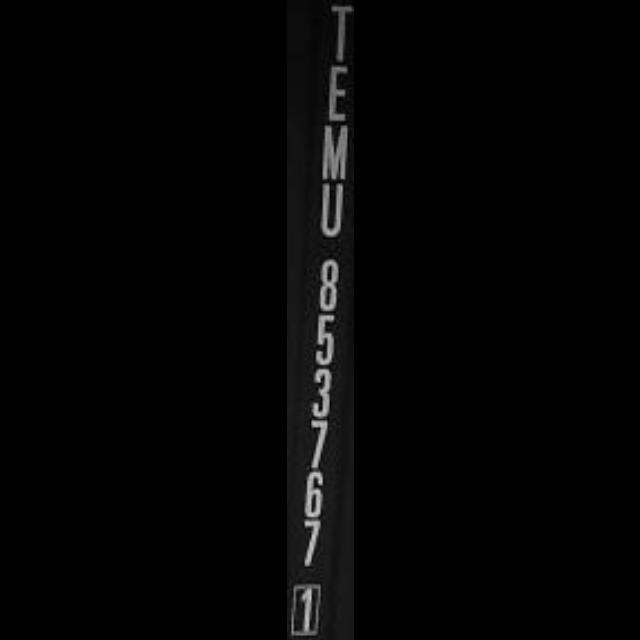1: (286, 578, 330, 640)
3: (298, 366, 342, 424)
5: (304, 311, 346, 371)
6: (292, 465, 331, 519)
7: (296, 420, 338, 470), (294, 514, 326, 574)
8: (308, 254, 344, 312)
e: (311, 60, 353, 126)
m: (311, 122, 353, 184)
t: (311, 1, 353, 62)
u: (310, 178, 352, 242)
